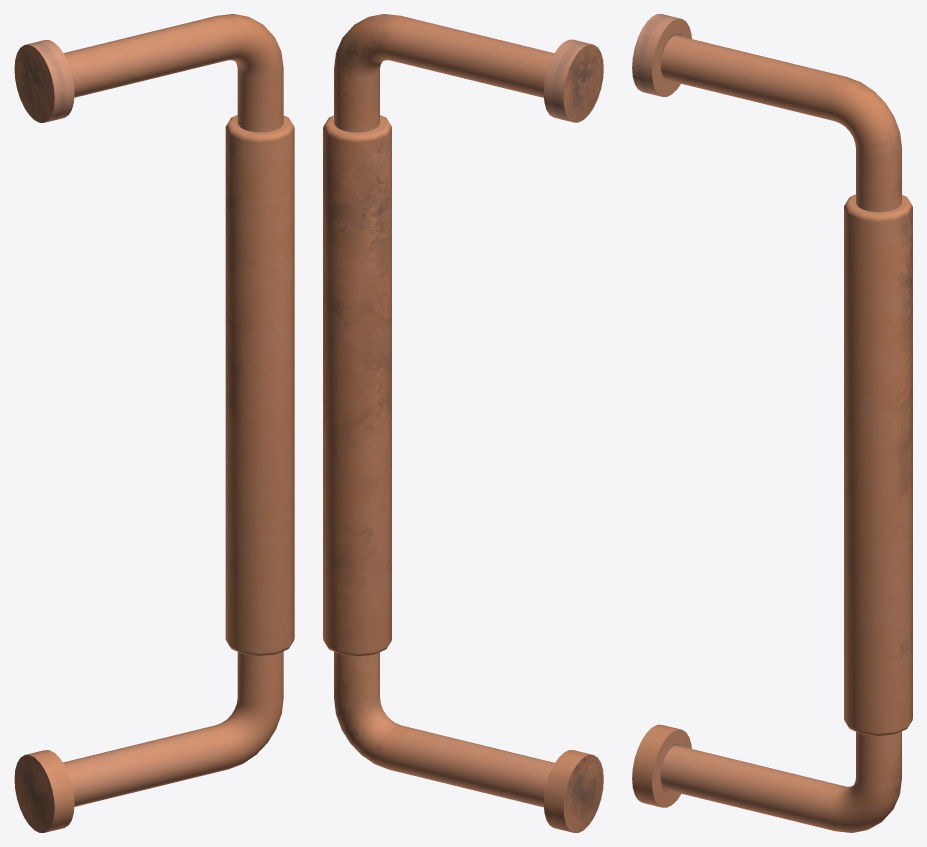
File: Handle_Copper.glb
3 renders of one model, left to right at view 1: azimuth 30°, elevation 25°; view 2: azimuth 150°, elevation 25°; view 3: azimuth 330°, elevation 25°, orthographic.
Parts seen in each view (by area): view 1: Handle_2; view 2: Handle_2; view 3: Handle_2.
Part boxes in pixels (<box>): Handle_2: <box>14,14,294,832</box>; Handle_2: <box>323,14,603,832</box>; Handle_2: <box>632,14,912,832</box>.
Size of the model in its own units: 0.2014 by 0.5896 by 0.0549.
Materials: 1 (1 with a texture image).
